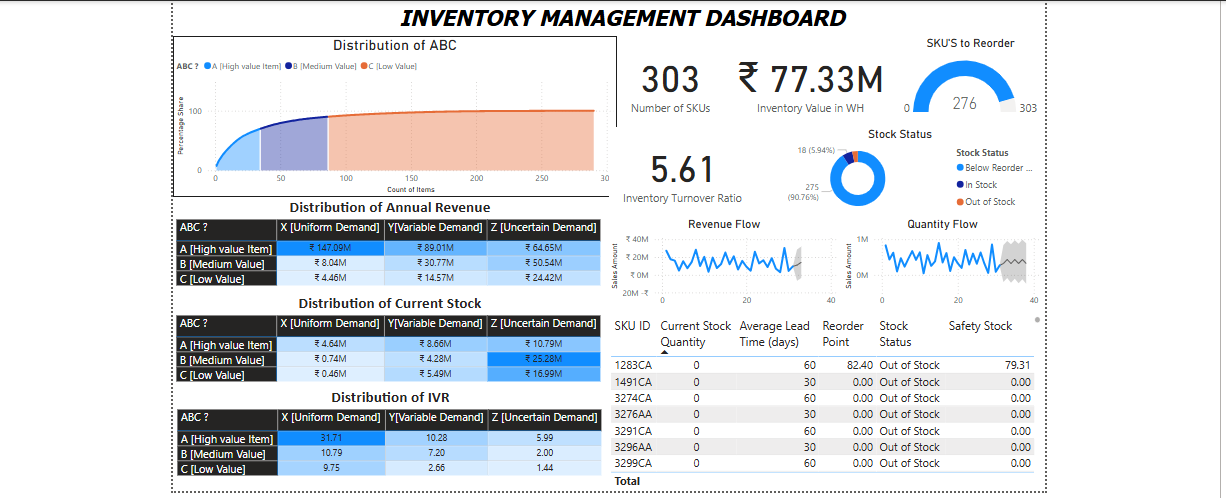

What the dashboard file says about the page in this screenshot:
{"tool":"powerbi","page":{"name":"Page 1","canvas":[1280,720],"ordinal":0},"visuals":[{"type":"stackedAreaChart","title":"Distribution of ABC","fields":{"Category":["Stock.ABC Rank"],"Y":["Avg(Stock.Cumulative Share %)"],"Series":["Stock.ABC ?"]},"box":[0,51.4,652.4,236.6],"z":0},{"type":"pivotTable","title":"Distribution of Annual Revenue","fields":{"Rows":["Stock.ABC ?"],"Columns":["Stock.XYZ"],"Values":["Sum(Stock.Annual Revenue)"]},"box":[0,288,637.7,141.1],"z":1000},{"type":"pivotTable","title":" Distribution of Current Stock","fields":{"Rows":["Stock.ABC ?"],"Columns":["Stock.XYZ"],"Values":["Sum(Stock.Value in WH)"]},"box":[0,429.1,637.7,138.1],"z":2000},{"type":"card","fields":{"Values":["Stock.Inventory Turnover Ratio"]},"box":[640.7,185.1,216,130.8],"z":3000},{"type":"card","fields":{"Values":["Count(Weekly Demand Sheet.SKU ID)"]},"box":[652.4,51.4,157.2,133.7],"z":4000},{"type":"card","fields":{"Values":["Sum(Stock.Value in WH)"]},"box":[809.6,51.4,254.2,133.7],"z":5000},{"type":"pivotTable","title":" Distribution of IVR","fields":{"Rows":["Stock.ABC ?"],"Columns":["Stock.XYZ"],"Values":["Stock.Inventory Turnover Ratio"]},"box":[1.5,567.2,636.2,152.8],"z":6000},{"type":"tableEx","fields":{"Values":["Stock.SKU ID","Stock.Current Stock Quantity","Stock.Average Lead Time (days)","Stock.Reorder Point","Stock.Stock Status","Stock.Safety Stock"]},"box":[637.7,458.4,642.1,261.6],"z":7000},{"type":"gauge","title":"SKU''S to Reorder ","fields":{"Y":["Stock.SKU'S to Reorder"],"MaxValue":["CountNonNull(Stock.SKU ID)"]},"box":[1063.8,51.4,216,133.7],"z":8000},{"type":"donutChart","title":"Stock Status","fields":{"Category":["Stock.Stock Status"],"Y":["CountNonNull(Stock.SKU ID)"]},"box":[856.7,185.1,423.2,132.2],"z":9000},{"type":"lineChart","title":"Revenue Flow ","fields":{"Y":["Sum(Weekly Demand Sheet.Sales Amount)"],"Category":["Weekly Demand Sheet.Week date.Variation.Date Hierarchy.Day"]},"box":[637.7,317.4,343.8,141.1],"z":10000},{"type":"lineChart","title":"Quantity Flow","fields":{"Category":["Weekly Demand Sheet.Week date.Variation.Date Hierarchy.Day"],"Y":["Sum(Weekly Demand Sheet.Week Demand)"]},"box":[981.6,317.4,298.3,141.1],"z":11000},{"type":"textbox","box":[273.3,0,772.9,51.4],"z":12000}]}

Visuals, with their boxes on the page's 1280x720 design canvas (x1, y1, x2, y2). These are canvas units, not pixel positions in the 1226x498 screenshot, which may show the page scaled, cropped or inside an application window:
"Distribution of ABC" stackedAreaChart: region(0, 51, 652, 288)
"Distribution of Annual Revenue" pivotTable: region(0, 288, 638, 429)
" Distribution of Current Stock" pivotTable: region(0, 429, 638, 567)
card - Stock.Inventory Turnover Ratio: region(641, 185, 857, 316)
card - Count(Weekly Demand Sheet.SKU ID): region(652, 51, 810, 185)
card - Sum(Stock.Value in WH): region(810, 51, 1064, 185)
" Distribution of IVR" pivotTable: region(2, 567, 638, 720)
tableEx - Stock.SKU ID x Stock.Current Stock Quantity: region(638, 458, 1280, 720)
"SKU''S to Reorder " gauge: region(1064, 51, 1280, 185)
"Stock Status" donutChart: region(857, 185, 1280, 317)
"Revenue Flow " lineChart: region(638, 317, 982, 458)
"Quantity Flow" lineChart: region(982, 317, 1280, 458)
textbox: region(273, 0, 1046, 51)
